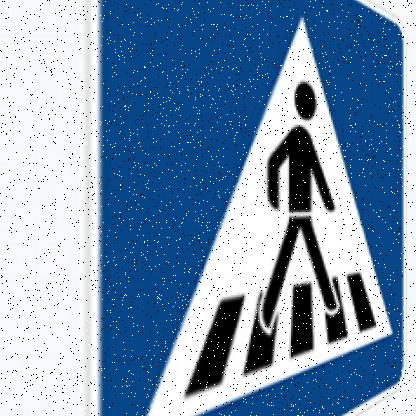Pedestrian Crossing: (89, 1, 412, 416)
